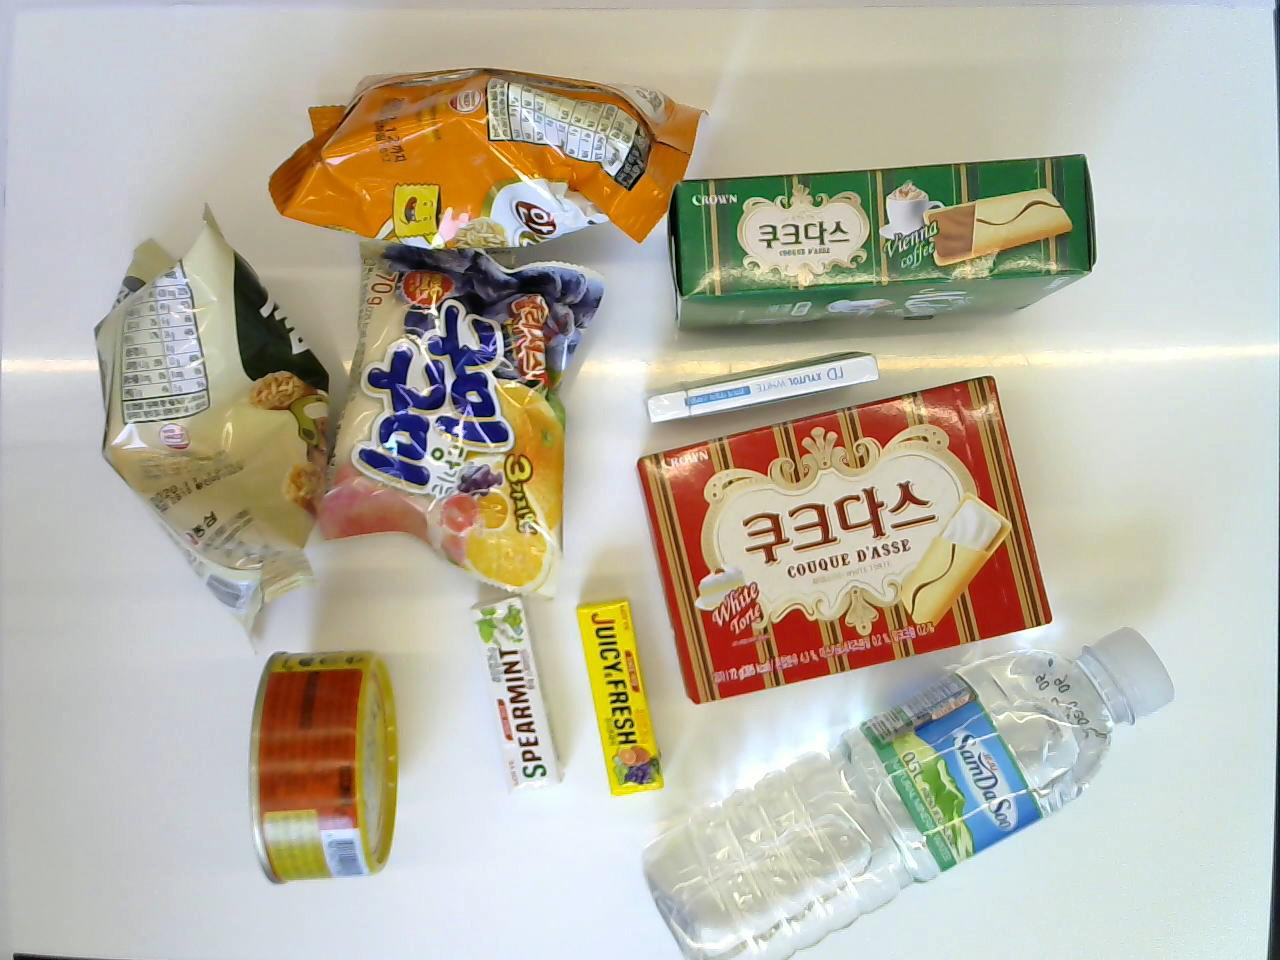ID_gum: (643, 350, 878, 424)
couque_coffee: (661, 150, 1099, 337)
couque_white: (638, 379, 1056, 703)
gumi_gumi: (310, 235, 608, 597)
jjolbyung_noodle: (263, 62, 709, 256)
jjolbyung_ori: (90, 207, 345, 654)
juicyfresh: (574, 595, 664, 796)
samdasu: (637, 623, 1178, 958)
spearmint: (467, 592, 565, 794)
tuna: (247, 647, 402, 890)
